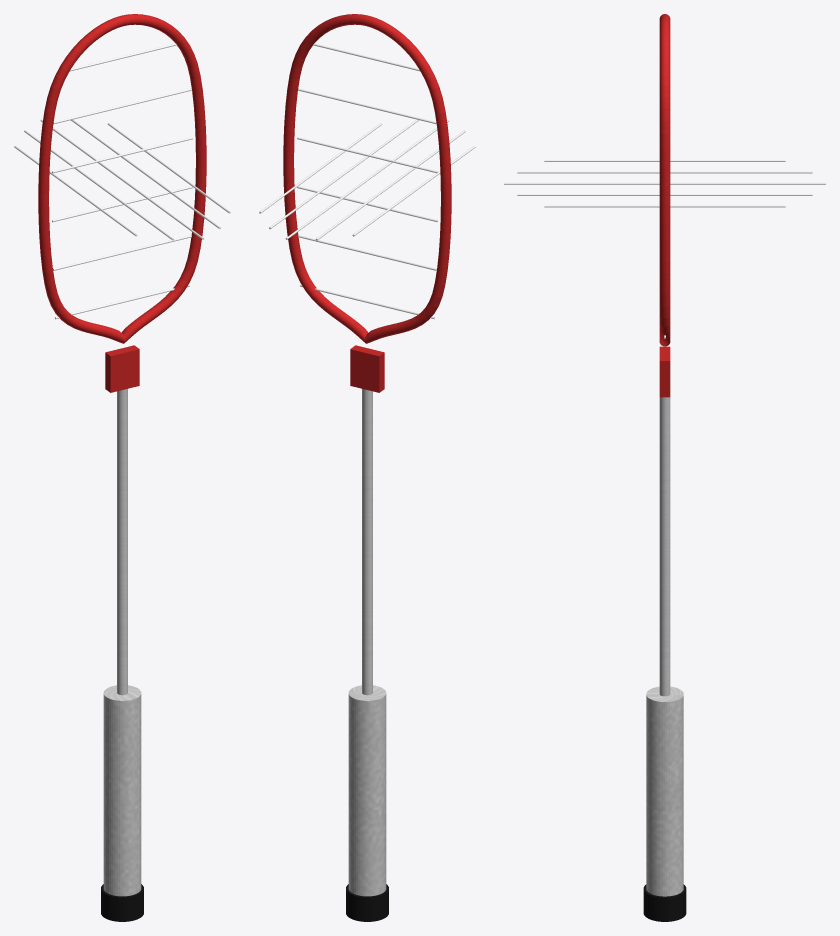
3 renders of one model, left to right at view 1: azimuth 30°, elevation 25°; view 2: azimuth 150°, elevation 25°; view 3: azimuth 270°, elevation 25°, orthographic.
Parts seen in each view (by area): view 1: part_11, part_15, part_13, part_12, part_14, part_10, part_8, part_9; view 2: part_11, part_15, part_13, part_12, part_14, part_10, part_8, part_9; view 3: part_15, part_11, part_13, part_14, part_10, part_9, part_6.
Part boxes in pixels (x1,y1,x2,y2): part_11: (38,14,206,343); part_15: (103,685,141,896); part_13: (117,389,127,695); part_12: (105,345,139,392); part_14: (101,884,143,921); part_10: (40,119,204,239); part_8: (71,119,220,229); part_9: (24,130,174,240); part_11: (283,14,451,343); part_15: (348,685,386,896); part_13: (362,389,372,695); part_12: (350,345,384,392); part_14: (346,884,388,921); part_10: (285,119,449,239); part_8: (269,119,418,229); part_9: (315,130,465,240); part_15: (646,686,683,896); part_11: (659,14,670,346); part_13: (659,397,670,696); part_14: (643,884,686,921); part_10: (504,182,825,184); part_9: (517,171,812,173); part_6: (544,205,785,207).
Size of the model in its own units: 0.1948 by 1 by 0.327.
6 materials, 6 textured.
